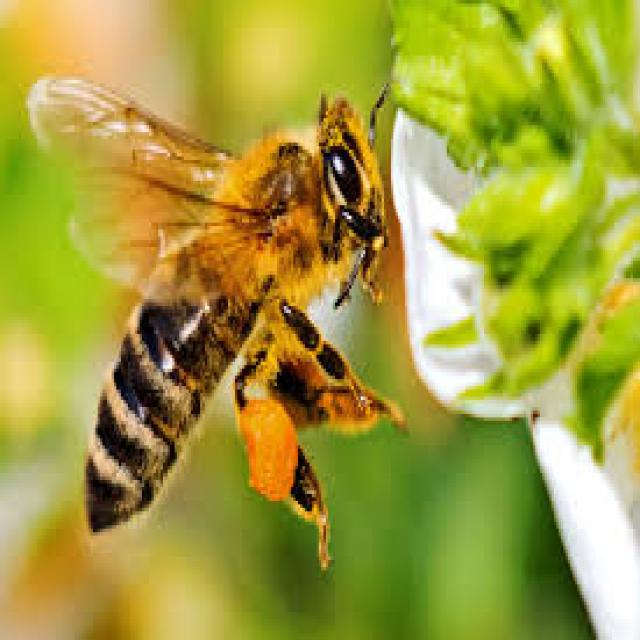Bees: (26, 78, 411, 572)
